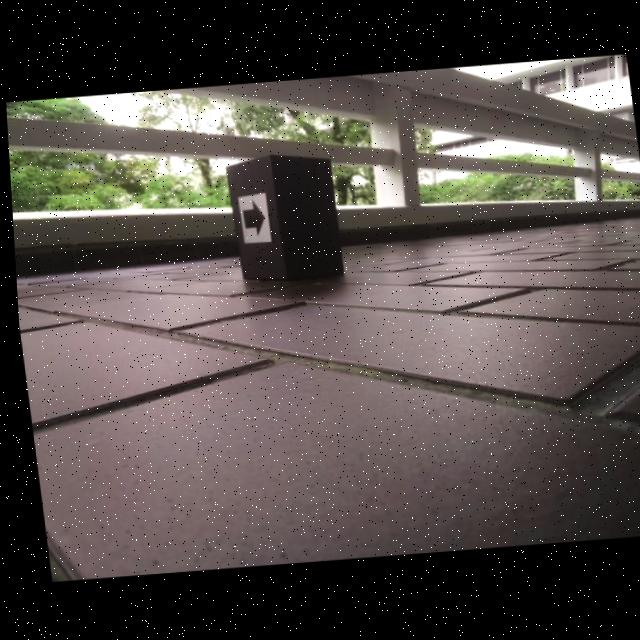RIGHT: (239, 199, 263, 238)
